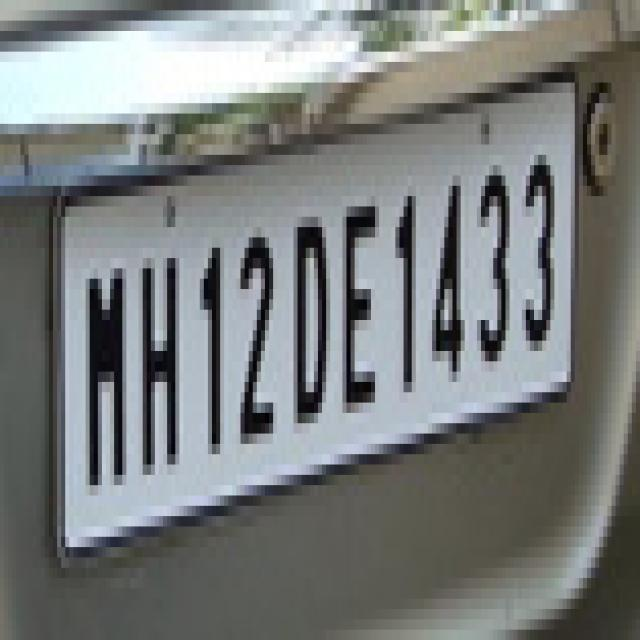1: (192, 224, 230, 478), (393, 176, 427, 426)
3: (516, 139, 562, 373), (475, 158, 515, 394)
4: (430, 171, 471, 400)
D: (286, 200, 334, 430)
E: (340, 178, 380, 434)
H: (134, 239, 184, 499)
M: (77, 268, 131, 496)
